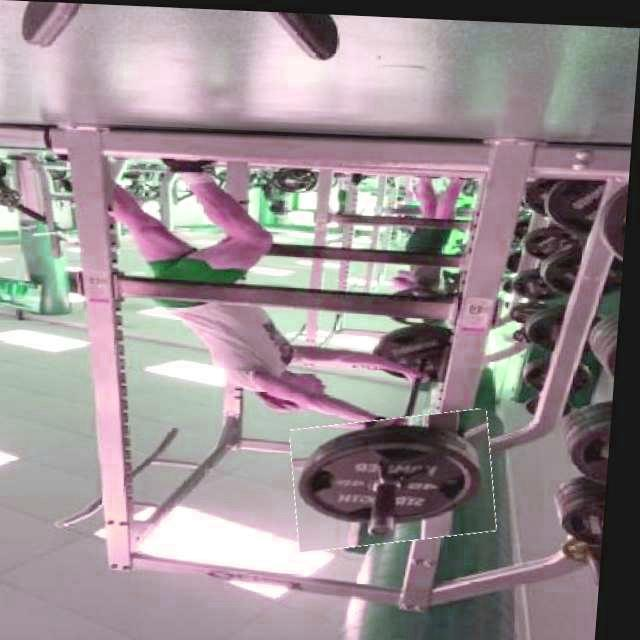barbell: (295, 405, 507, 550)
